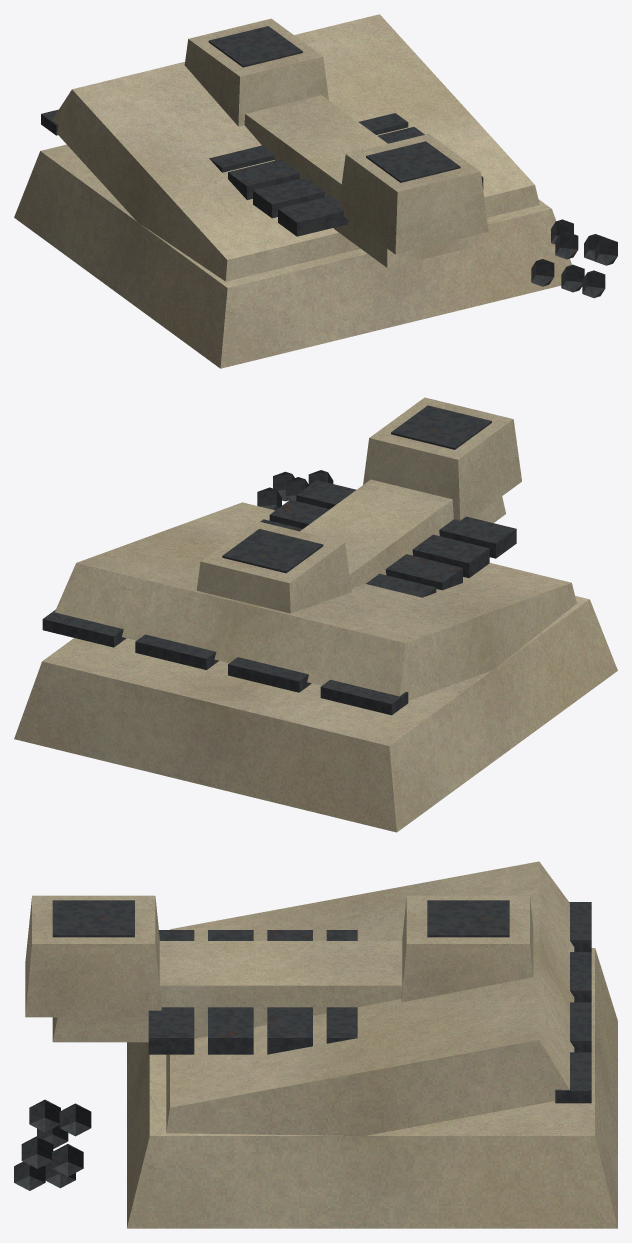
Rendered from phone.glb.
3 views of the same model, one above another, from view 1: azimuth 30°, elevation 25°; view 2: azimuth 150°, elevation 25°; view 3: azimuth 270°, elevation 25° (orthographic). The views are drawn at different scales.
Parts seen in each view (by area): view 1: phone, Handset; view 2: phone, Handset; view 3: phone, Handset.
Part boxes in pixels (x1,y1,x2,y2): phone: (14,14,571,368); Handset: (184,18,617,297); phone: (14,480,617,832); Handset: (196,397,521,613); phone: (127,861,617,1228); Handset: (14,895,533,1190).
Bounding box in the file's own units: 0.2174 × 0.1 × 0.2644.
Materials: 3 (3 with a texture image).
